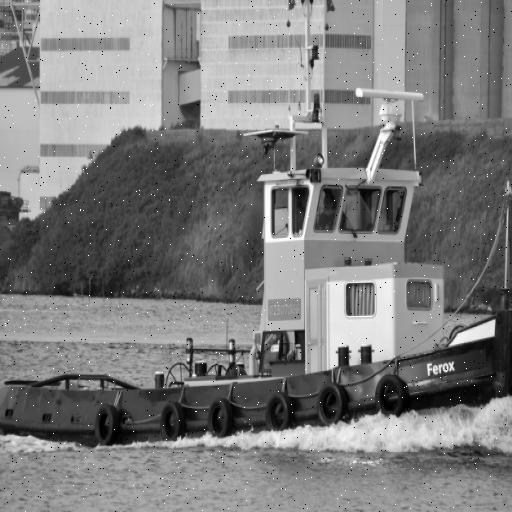tugboat: (1, 1, 512, 457)
